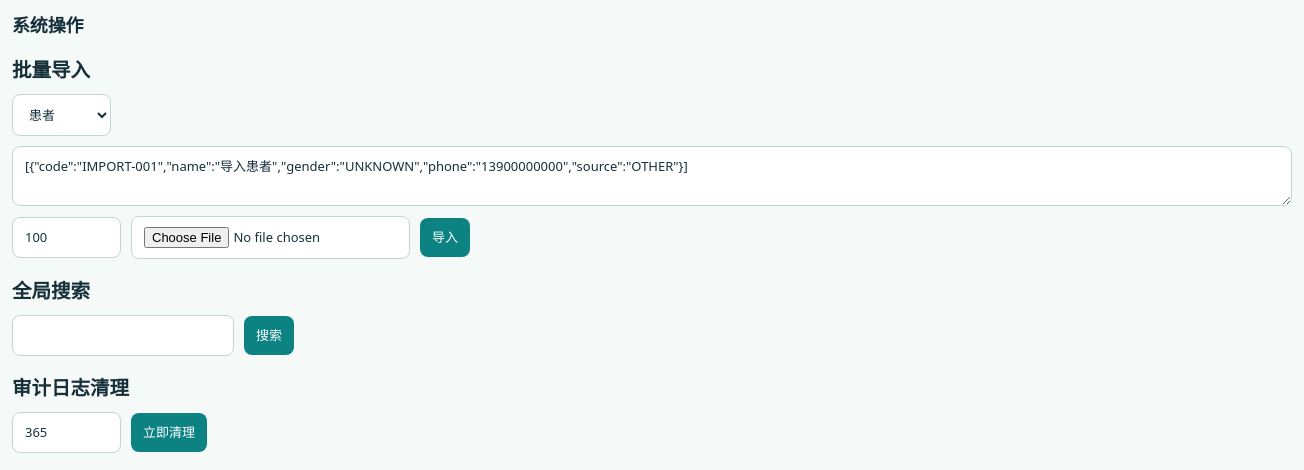
Scenario: SystemOperationsPage › cleans audit logs with a configured retention window
Replace the text in the number field named "日志保留天数" with "30". click: (66,433)
box: x1=12 y1=412 x2=121 y2=453
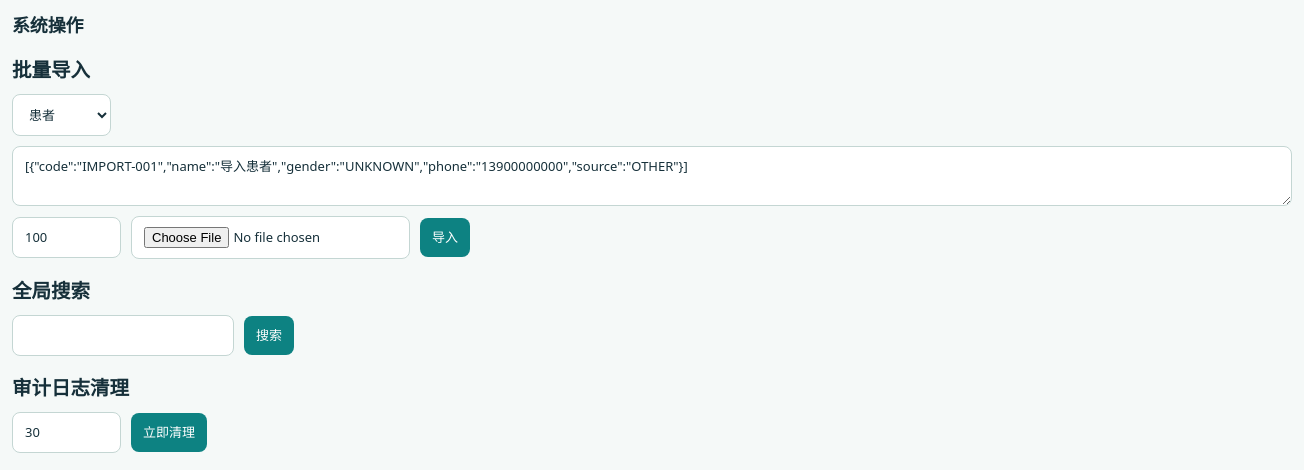
Click the button "立即清理". click: (169,433)
box: x1=131 y1=413 x2=207 y2=452
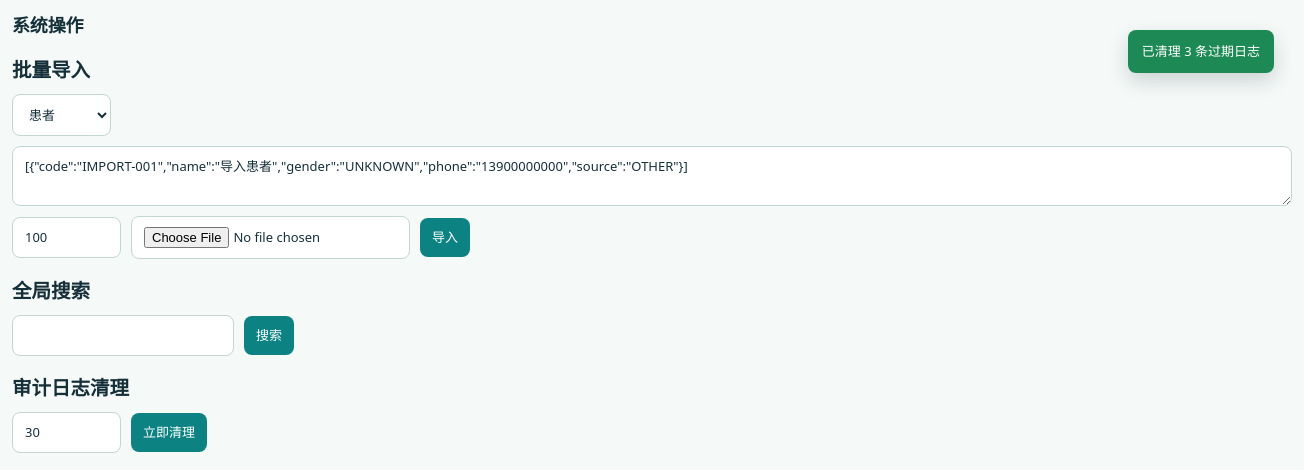
Expected: the text "已清理 3 条过期日志" is shown, x1=1128 y1=30 x2=1274 y2=73
